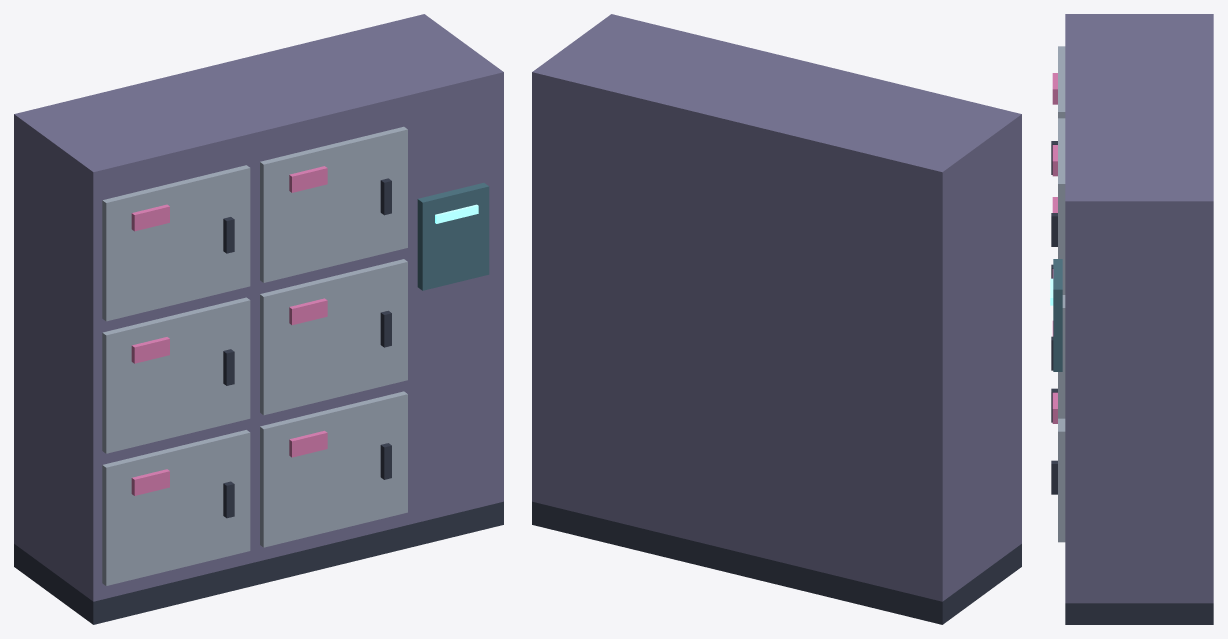
Rendered from neon-dispatch-public-parcel-lockers__177.glb.
3 renders of one model, left to right at view 1: azimuth 30°, elevation 25°; view 2: azimuth 150°, elevation 25°; view 3: azimuth 270°, elevation 25°, orthographic. The views are drawn at different scales.
Parts seen in each view (by area): view 1: shell, metal, dark, glass, accent; view 2: shell, dark; view 3: shell, dark, metal, glass, accent.
Part boxes in pixels (x1,y1,x2,y2): shell: [14, 14, 503, 601]; metal: [102, 126, 407, 585]; dark: [14, 178, 503, 624]; glass: [417, 183, 489, 290]; accent: [131, 166, 327, 495]; shell: [532, 14, 1021, 601]; dark: [532, 501, 1021, 624]; shell: [1065, 14, 1213, 603]; dark: [1051, 141, 1213, 624]; metal: [1058, 46, 1065, 542]; glass: [1053, 259, 1062, 371]; accent: [1052, 73, 1057, 423].
Bounding box in the file's own units: 1.85 × 1.95 × 0.6825.
